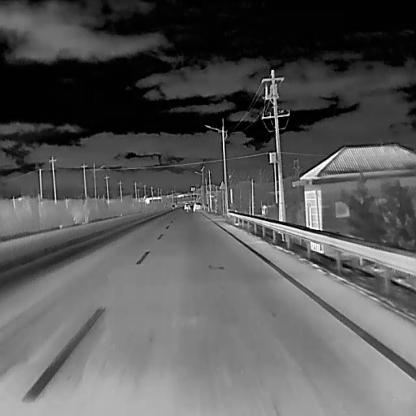car: (192, 201, 203, 213), (182, 201, 191, 212)
